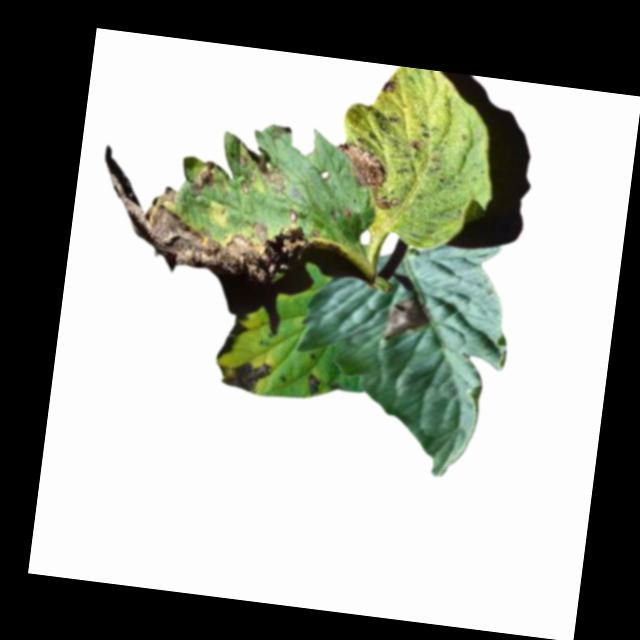Early_blight: (89, 144, 343, 291), (334, 140, 397, 212), (384, 294, 430, 343), (218, 356, 271, 395), (215, 317, 248, 365), (378, 76, 398, 96), (305, 373, 321, 396)
